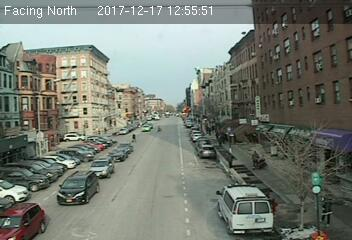car: (57, 171, 101, 205), (86, 156, 115, 180), (198, 145, 216, 159)
police: (215, 181, 274, 236)
